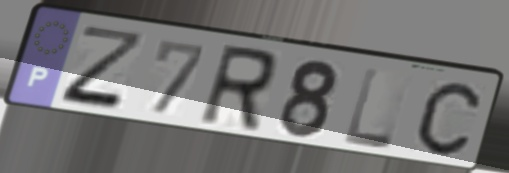7: (151, 36, 209, 119)
8: (276, 58, 343, 141)
C: (414, 80, 484, 158)
L: (341, 65, 397, 153)
R: (194, 42, 282, 136)
Z: (56, 23, 150, 116)
